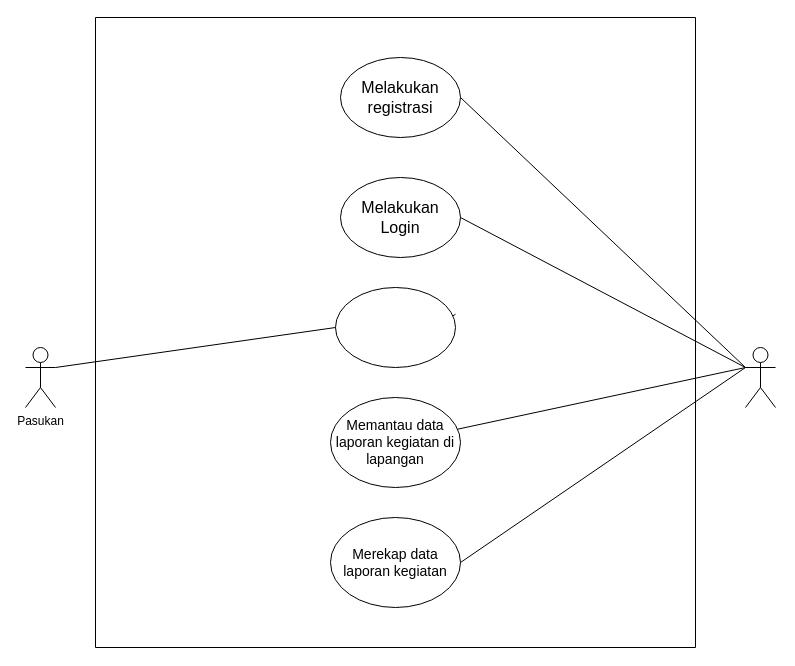
Image size: 795x666. Some labels were removed from this diagram. Each missing label, with the box of its shape:
Admin: (744, 346, 776, 408)
Melaporkan kegiatan di lapangan: (334, 286, 456, 368)
